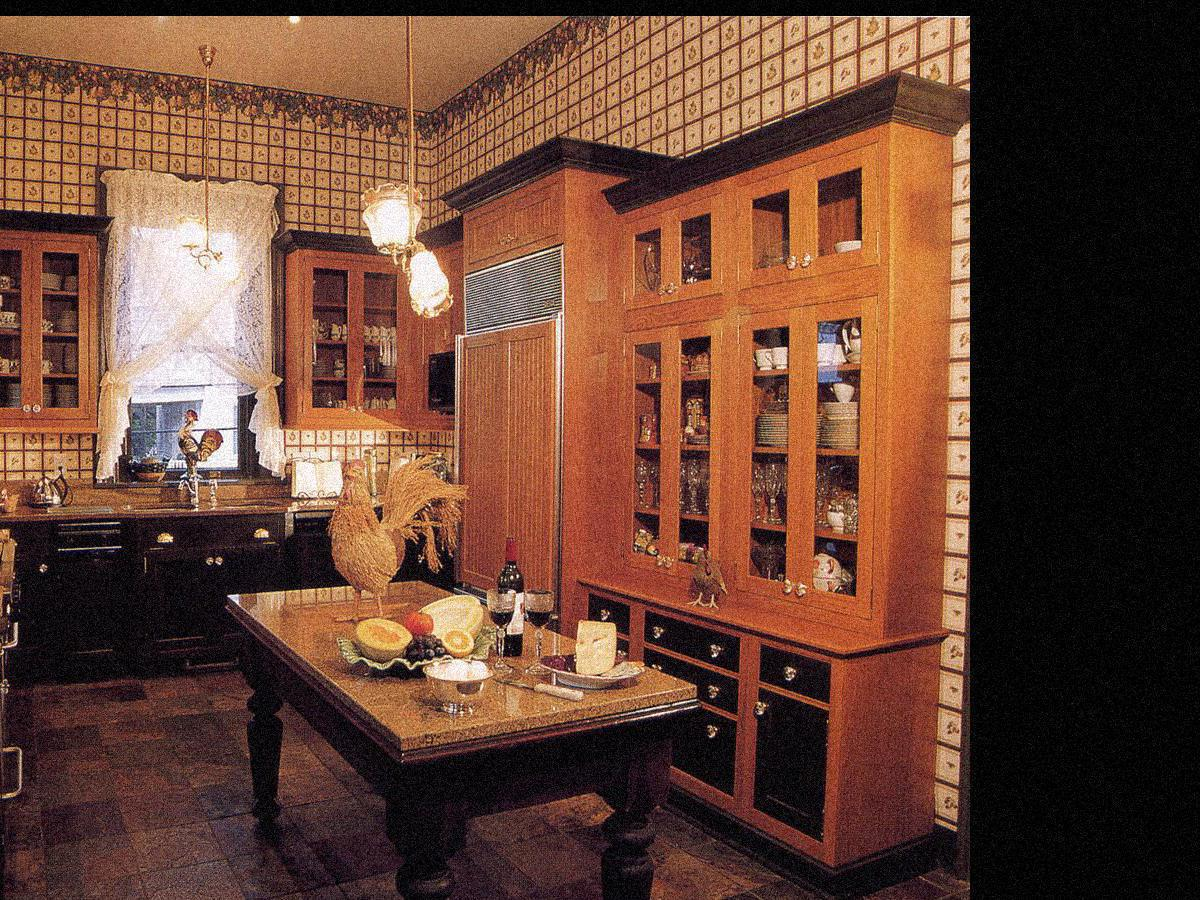Armario: (610, 202, 880, 860)
